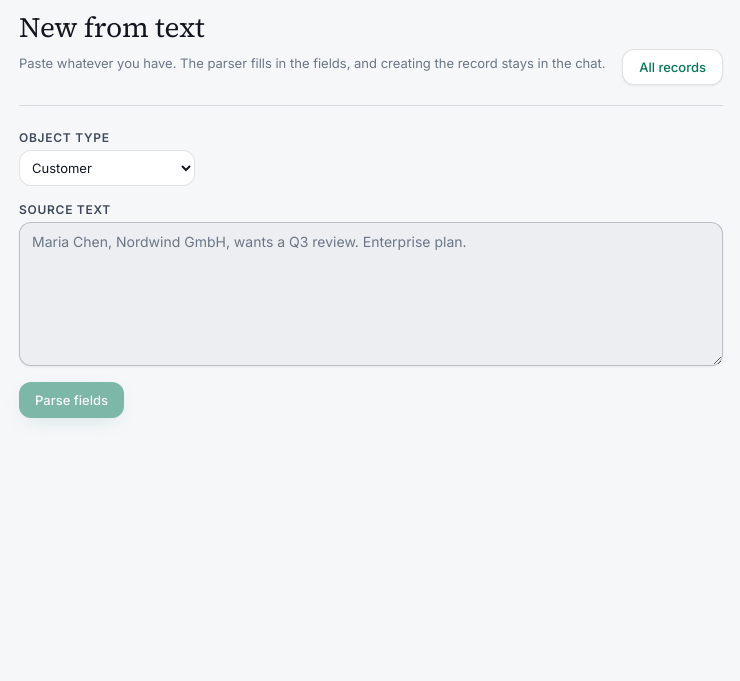
Test: /records/new › previews the parsed fields and hands them to a new chat
This screenshot has width=740, height=681.
Replace the text in the text box labelled "Source text" with "Maria Chen at Nordwind GmbH" at (371, 294), box x1=19 y1=222 x2=723 y2=366
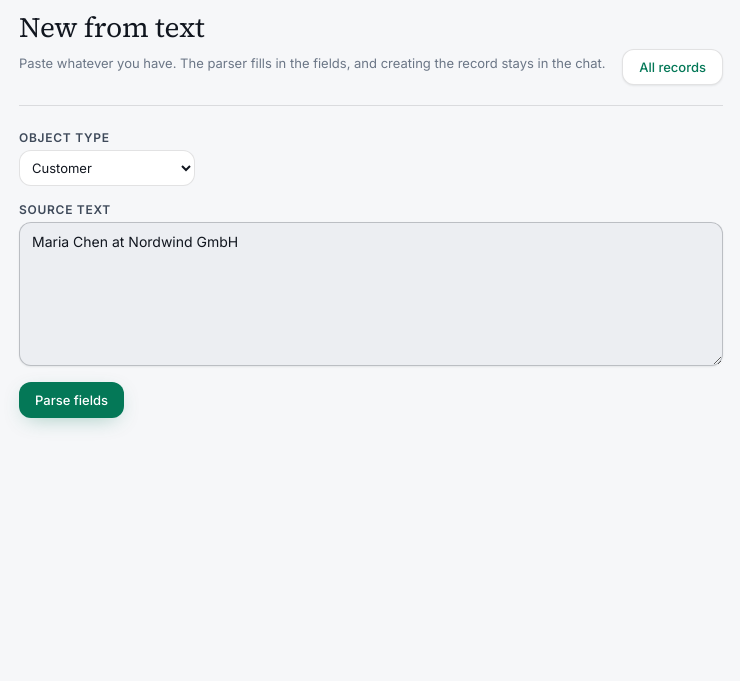
Click the button "Parse fields".
click(72, 400)  # box x1=19 y1=382 x2=124 y2=418
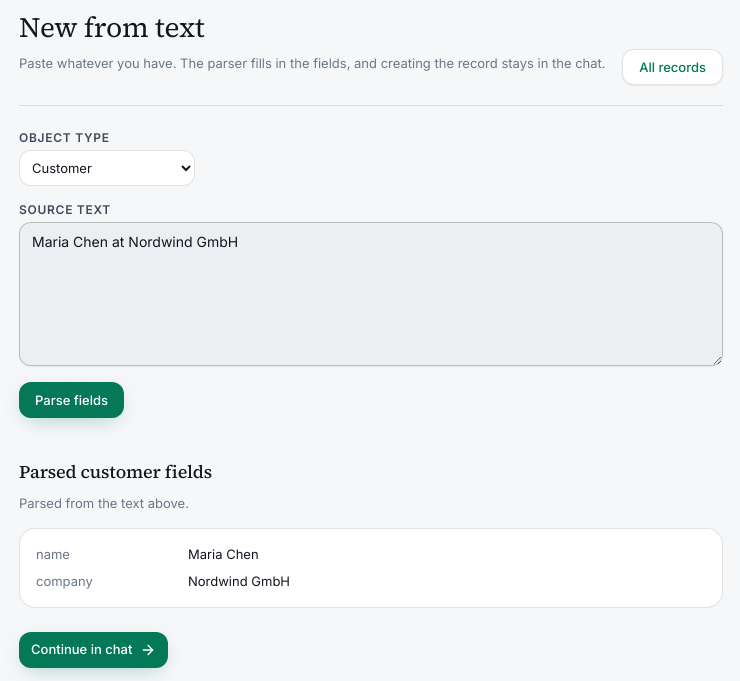
Check: the text "Maria Chen" is shown, box x1=188 y1=546 x2=259 y2=562
Check: the text "Nordwind GmbH" is shown, box x1=188 y1=573 x2=290 y2=589
Check: the text "Parsed from the text above." is shown, box x1=19 y1=495 x2=189 y2=511
